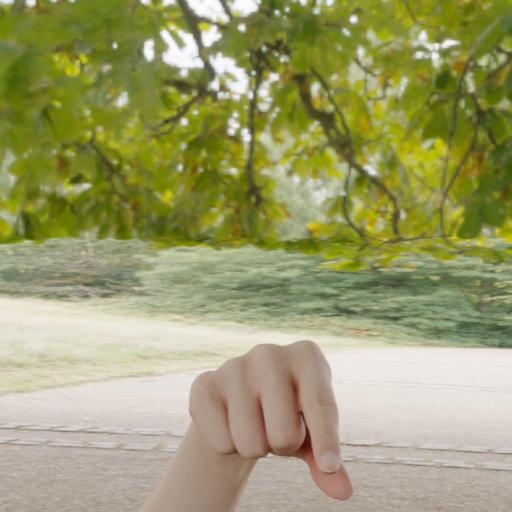Q: (188, 334, 354, 504)
